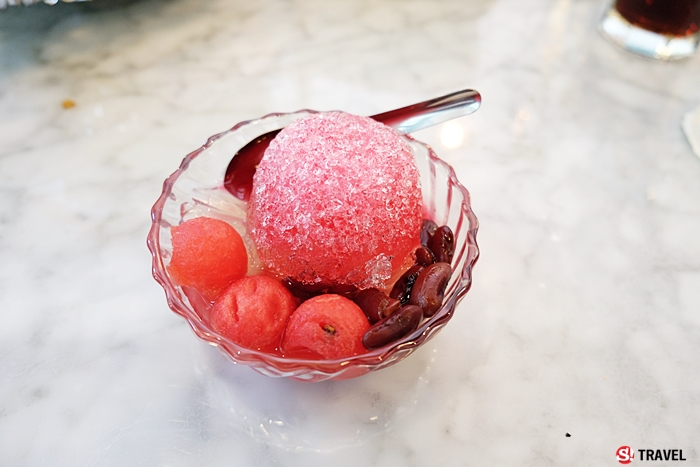O-eo: (160, 102, 480, 386)
